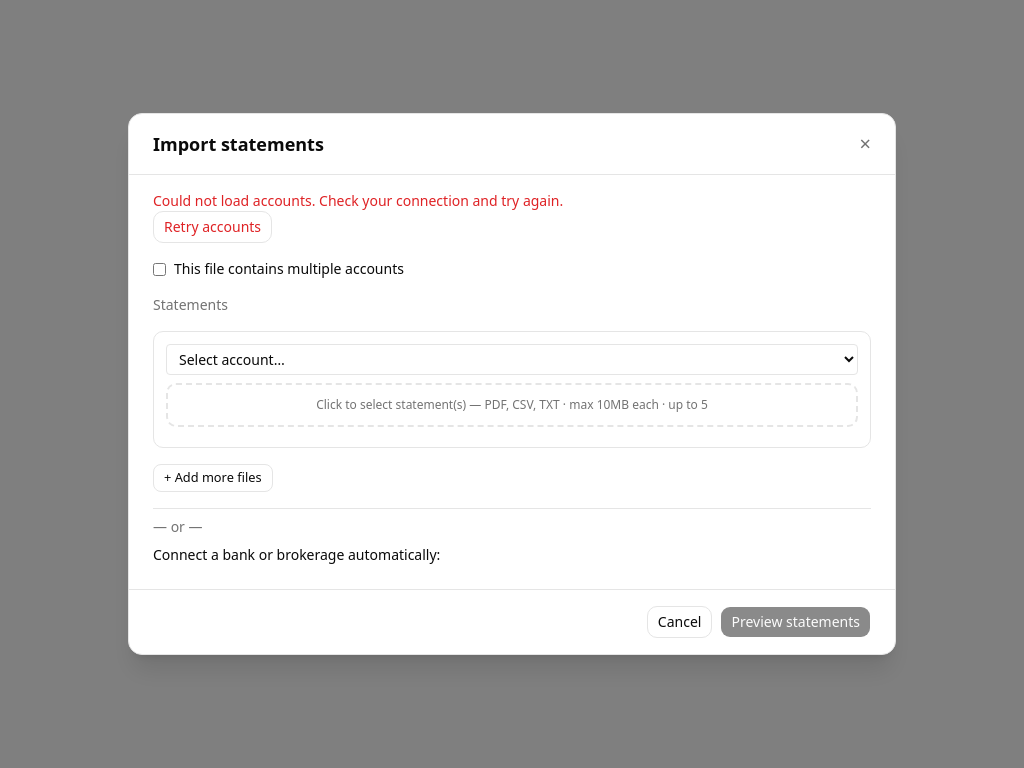
shows account loading failure and retries without closing the dialog
The image size is (1024, 768).
Check: the message shows "Could not load accounts", box [153,191,563,210]
Click the button "Retry accounts". click: (213,227)
box: [153,211,272,243]
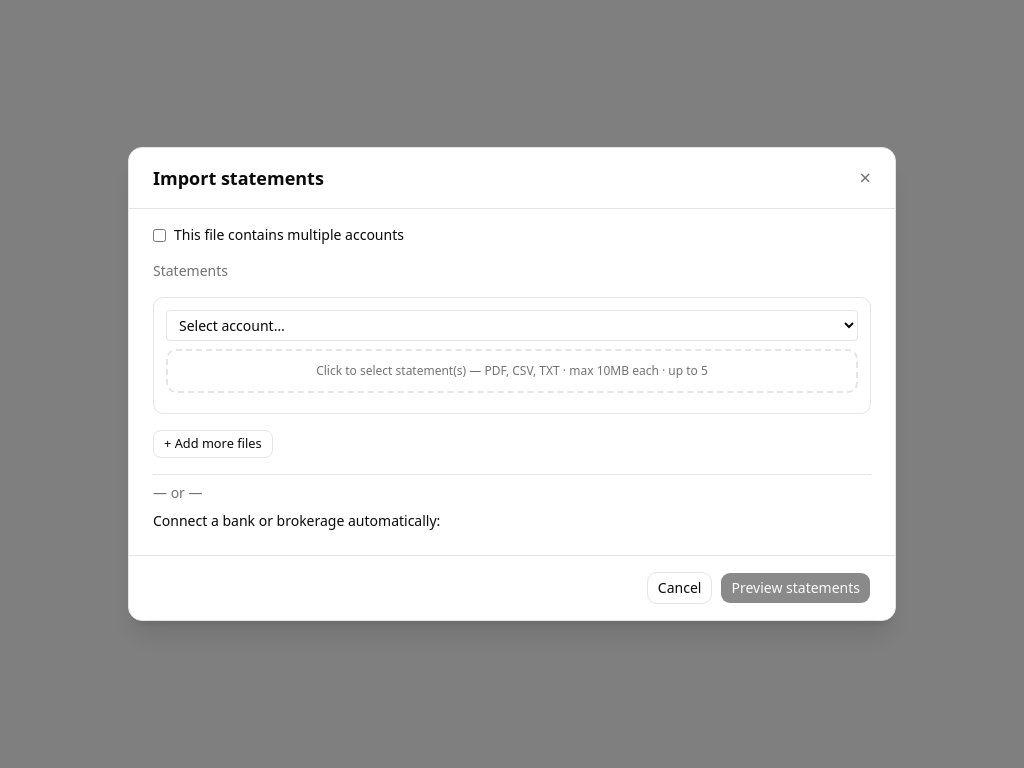
Check: the message "Could not load accounts. Check your connection and try again. Retry accounts" is gone
